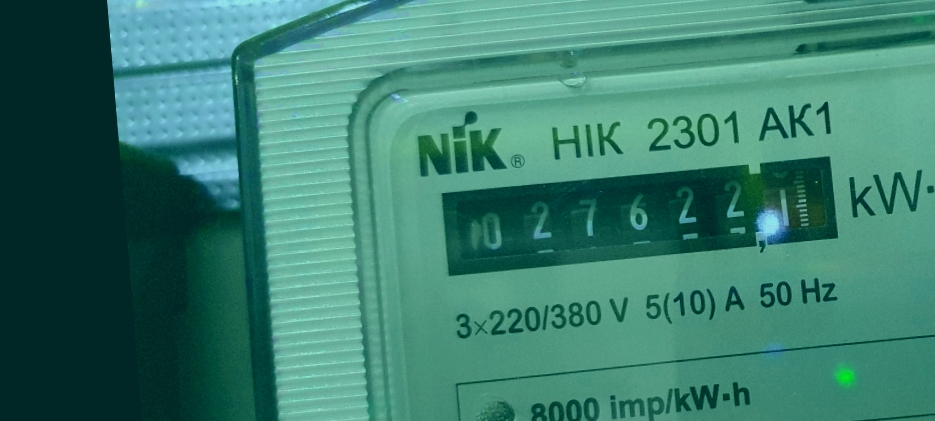0: (477, 207, 505, 251)
1: (774, 183, 793, 228)
2: (671, 182, 699, 225), (527, 197, 554, 241), (720, 175, 746, 219)
6: (624, 189, 650, 232)
7: (575, 195, 602, 240)
screen: (427, 144, 852, 283)
